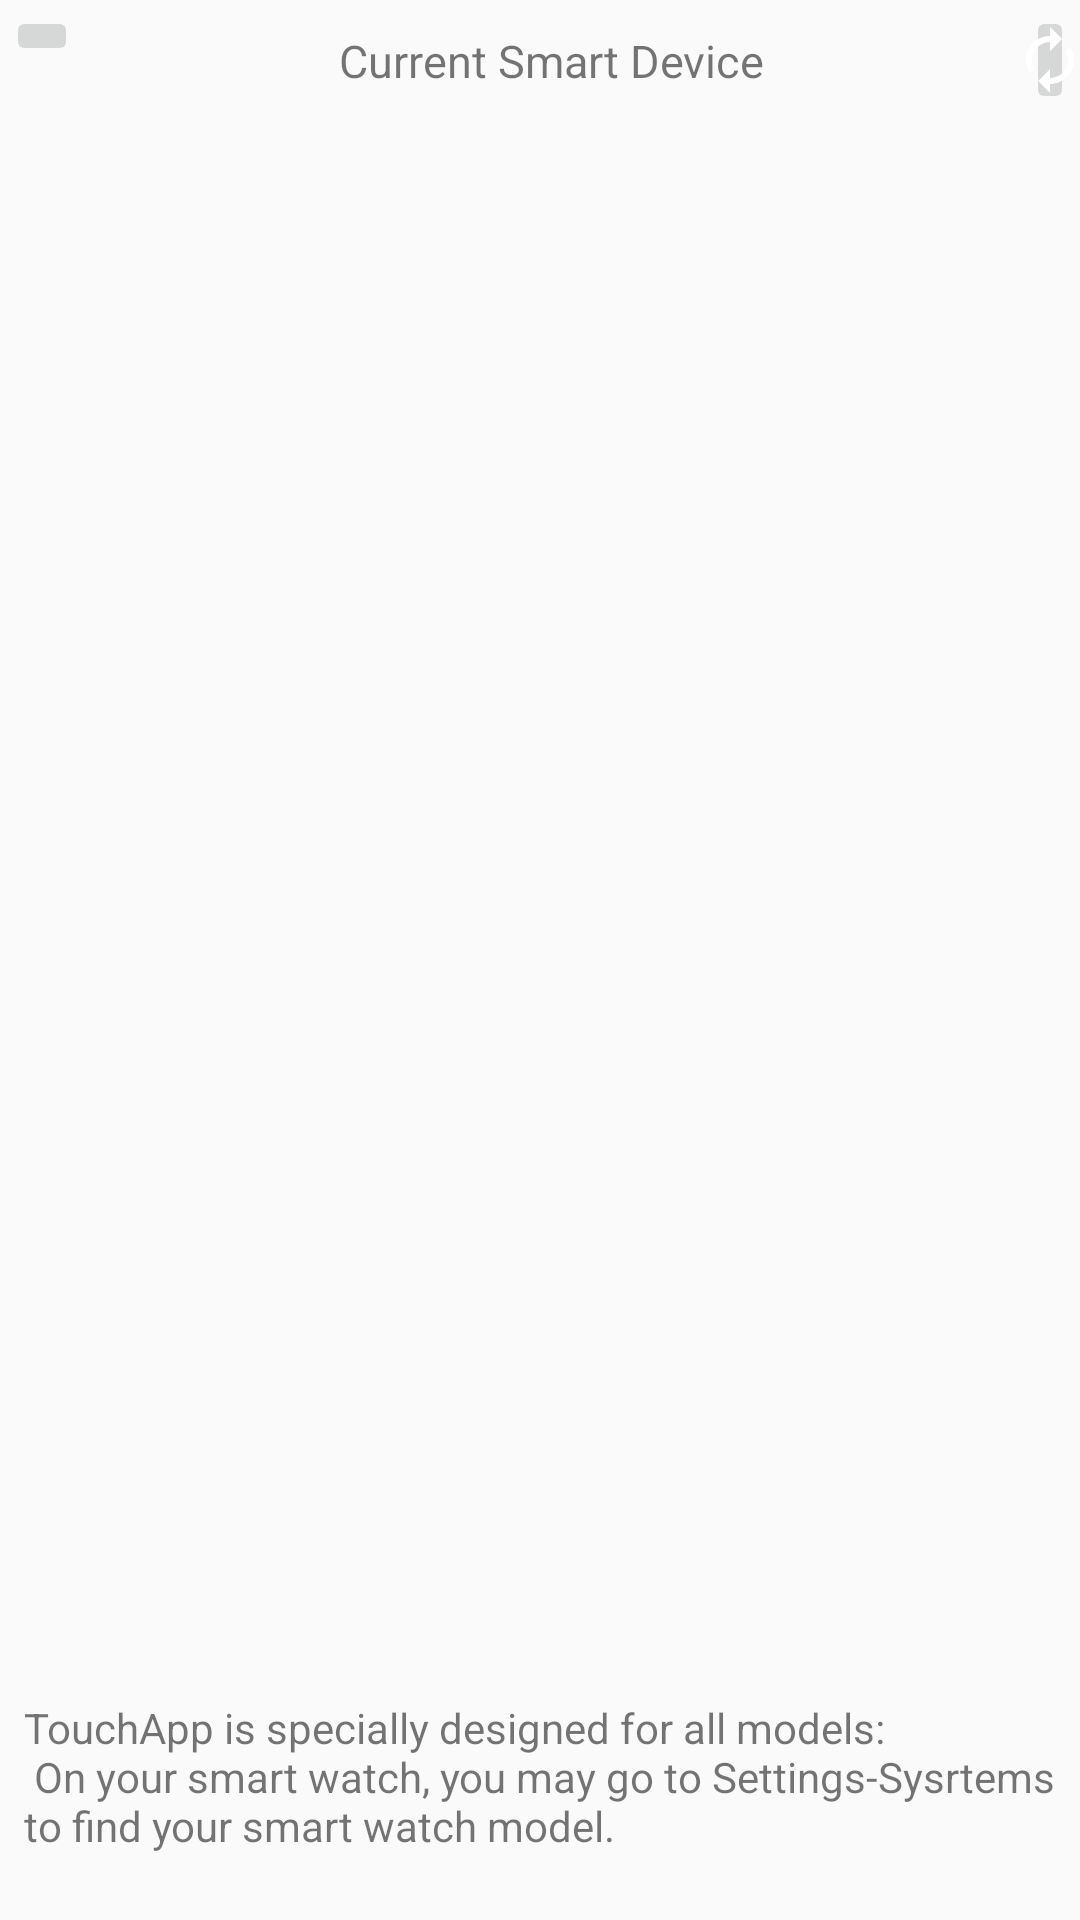

Named icons in this screenshot (1080 × 1920) and their bounding boxes, (x1, y1, x2, y2):
autorenew: (1038, 24, 1062, 96)
